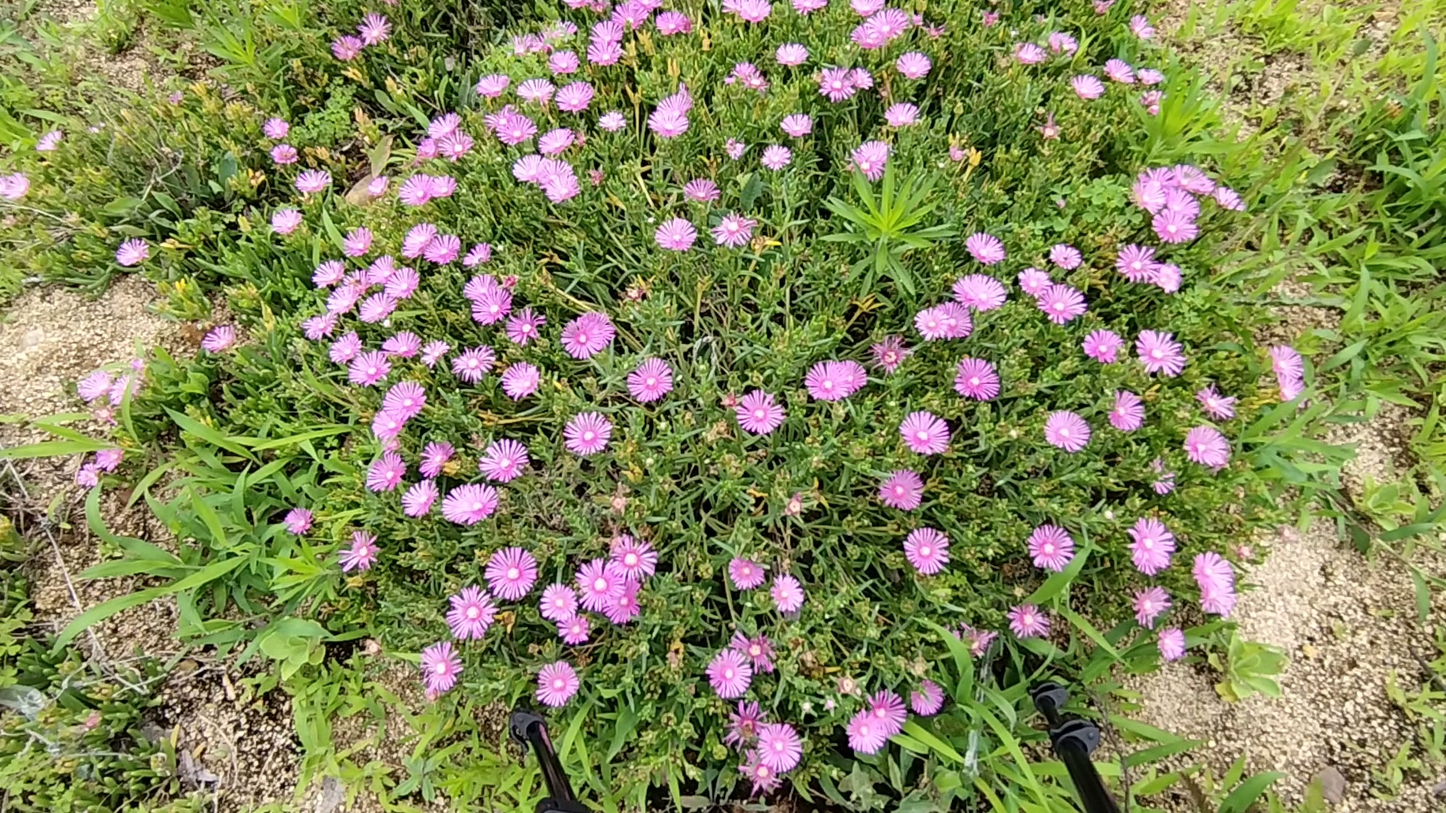bees: (740, 723, 756, 744), (345, 275, 364, 288), (282, 151, 295, 160), (1063, 255, 1070, 262)
